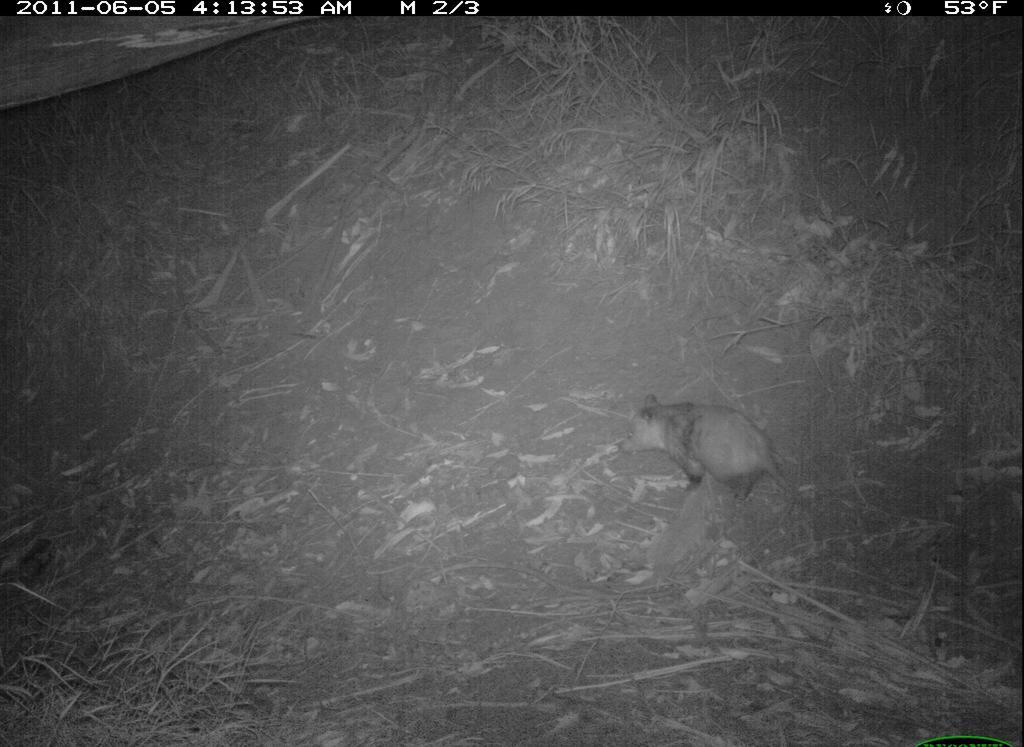opossum: (616, 392, 831, 527)
